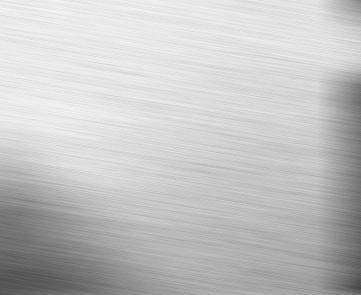Airbag: (0, 0, 360, 295), (344, 0, 361, 295), (0, 293, 360, 295), (343, 293, 361, 295)
